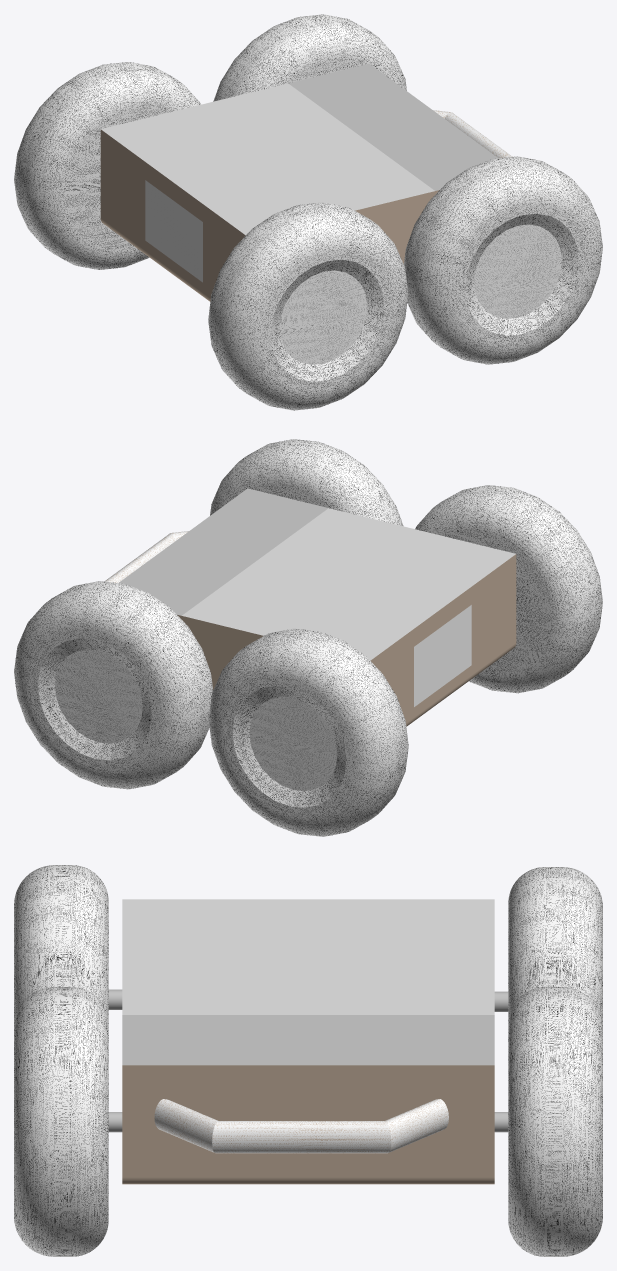
The model's file is spear_simple.dae.
The picture shows the model from 3 angles, top to bottom: view 1: azimuth 30°, elevation 25°; view 2: azimuth 150°, elevation 25°; view 3: azimuth 270°, elevation 25°; orthographic projection. The views are drawn at different scales.
Visible parts, largest first — view 1: SketchUp (×13); view 2: SketchUp (×13); view 3: SketchUp (×8).
Part boxes in pixels (left/top/right/bottom): SketchUp (×13): left=14, top=14, right=602, bottom=410; SketchUp (×13): left=14, top=439, right=602, bottom=836; SketchUp (×8): left=14, top=865, right=602, bottom=1256.
Bounding box in the file's own units: 20.5 × 21.75 × 10.08.
